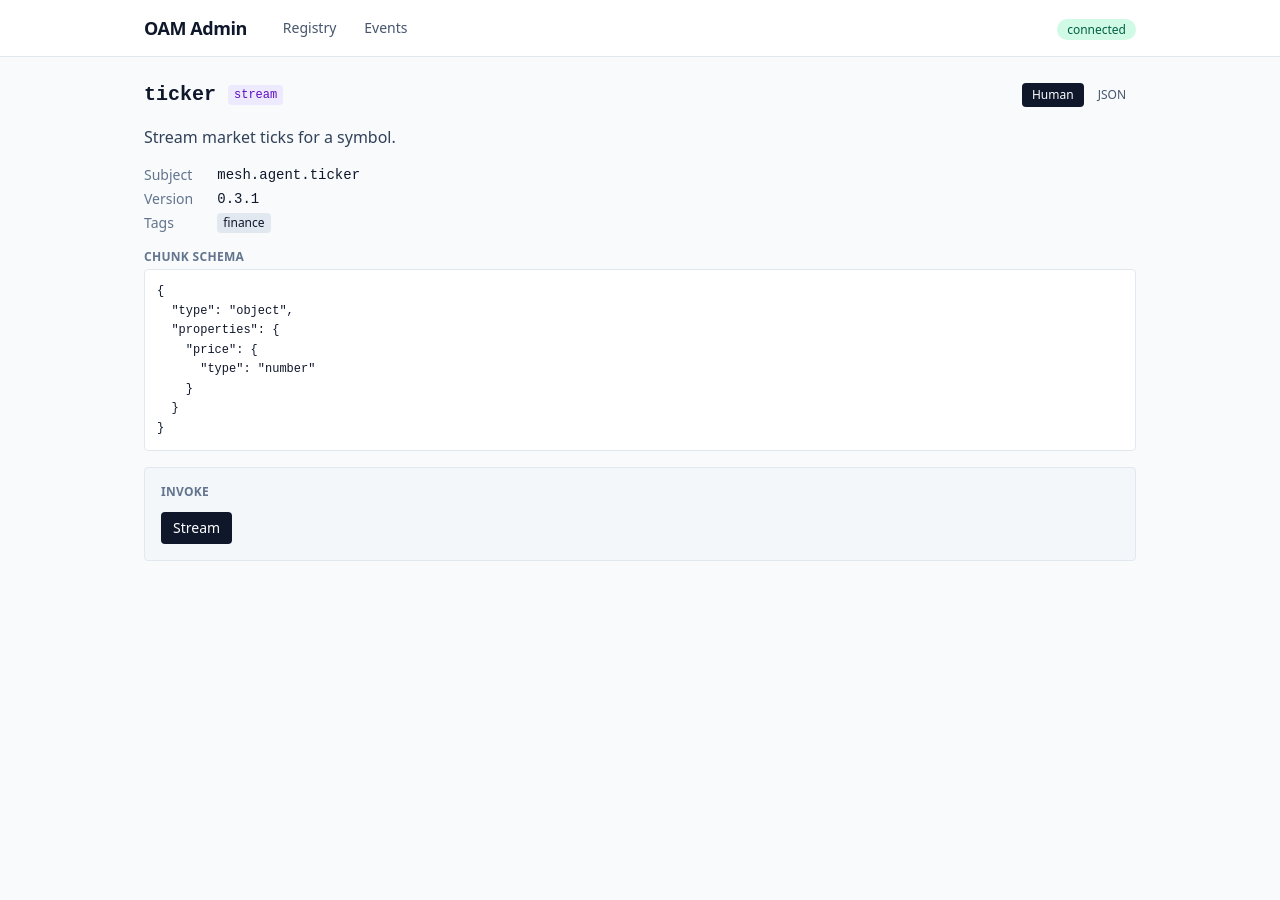
Scenario: invocation sandbox › renders stream chunks live and reports completion
This screenshot has width=1280, height=900.
Click the button "Stream". click: (197,528)
box: [161,512,232,544]
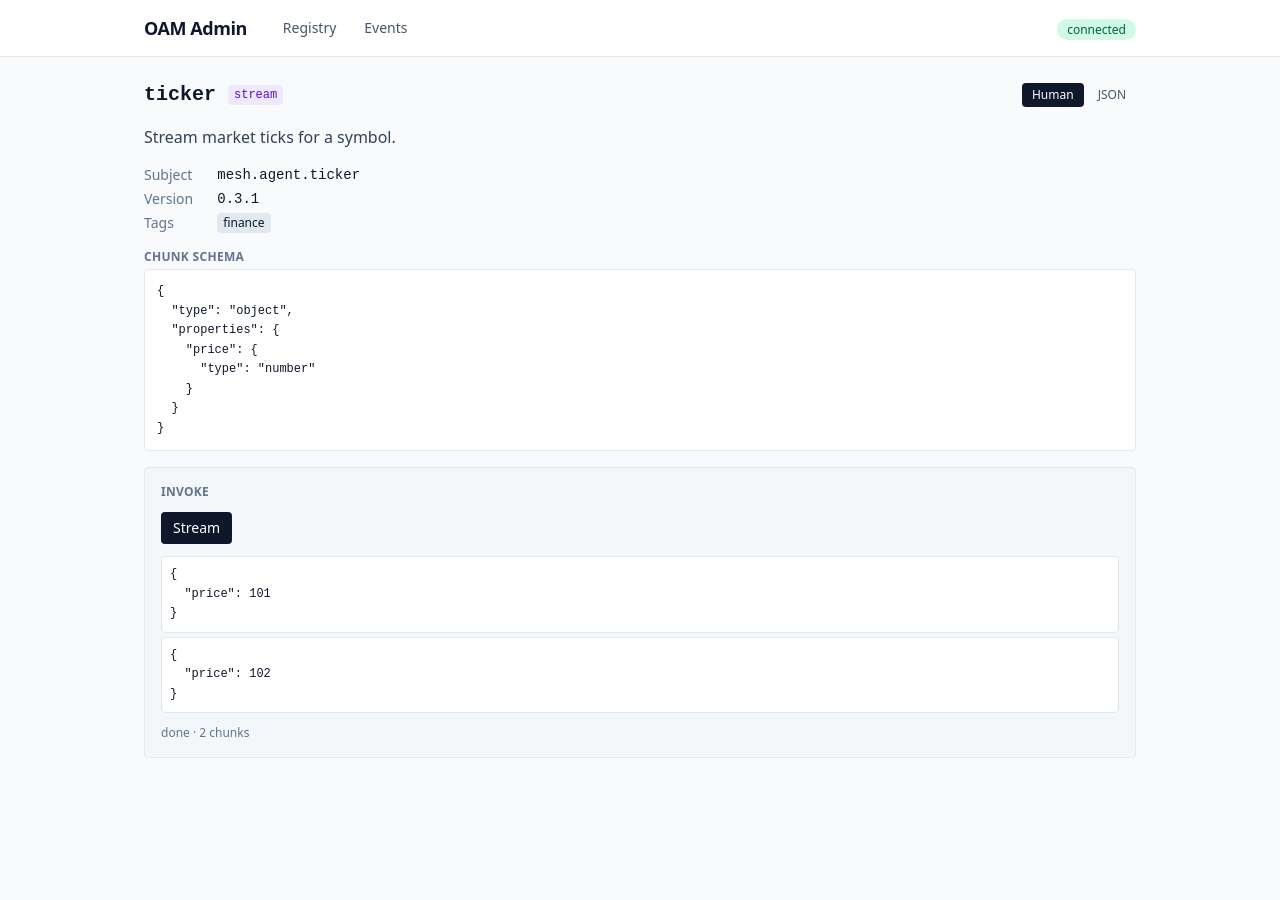
Check: the text "{ \"price\": 101 }" is shown, box [161,556,1119,632]
Check: the text "{ \"price\": 102 }" is shown, box [161,636,1119,713]
Check: the text "done · 2 chunks" is shown, box [161,724,249,741]
